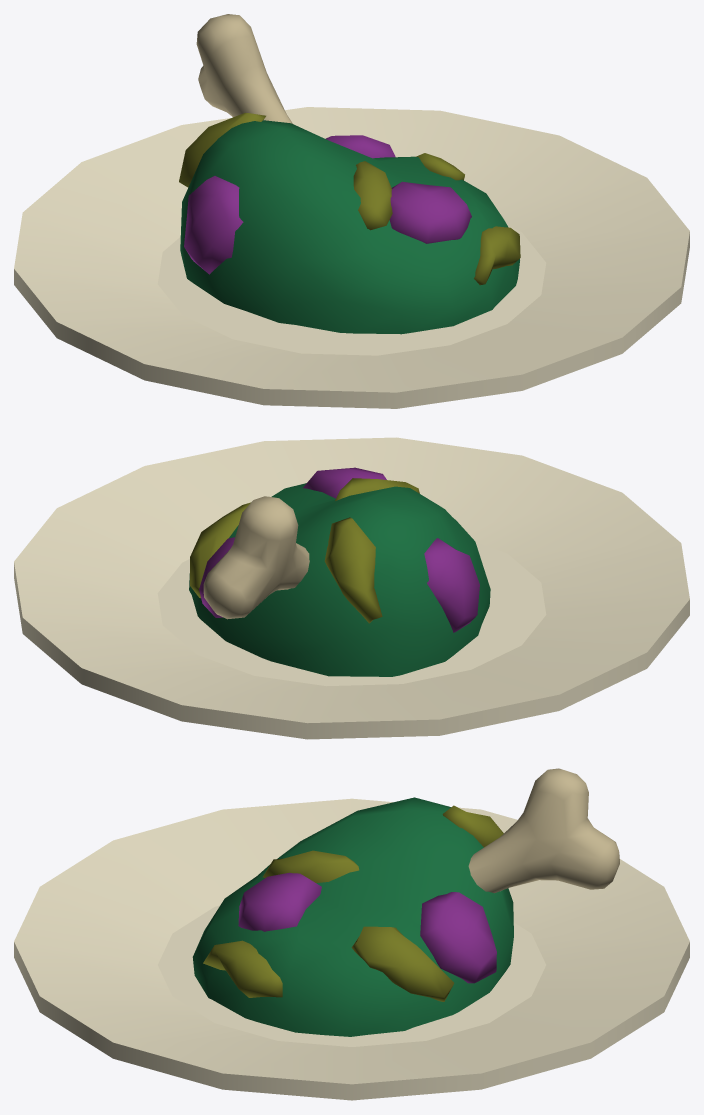
File: FailedDish.fbx
3 views of the same model, one above another, from view 1: azimuth 30°, elevation 25°; view 2: azimuth 150°, elevation 25°; view 3: azimuth 270°, elevation 25° (orthographic).
Parts seen in each view (by area): view 1: Failed_Dish; view 2: Failed_Dish; view 3: Failed_Dish.
Boxes of the visible parts, <box> form: Failed_Dish: <box>14,14,689,408</box>; Failed_Dish: <box>14,437,689,739</box>; Failed_Dish: <box>14,768,689,1100</box>.
Size of the model in its own units: 0.6488 by 0.6488 by 0.2304.
